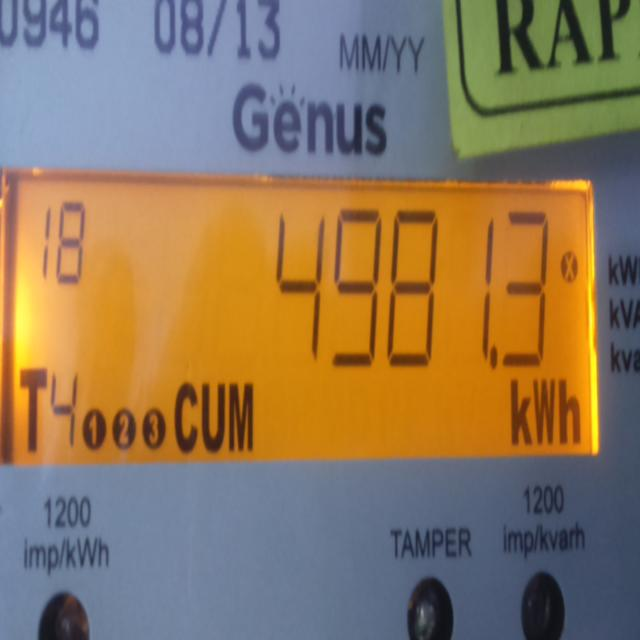.: (487, 337, 499, 383)
1: (471, 208, 499, 364), (39, 200, 54, 289)
3: (504, 204, 550, 374)
4: (269, 206, 328, 380)
8: (388, 206, 438, 378), (56, 202, 90, 288)
9: (331, 200, 385, 387)
